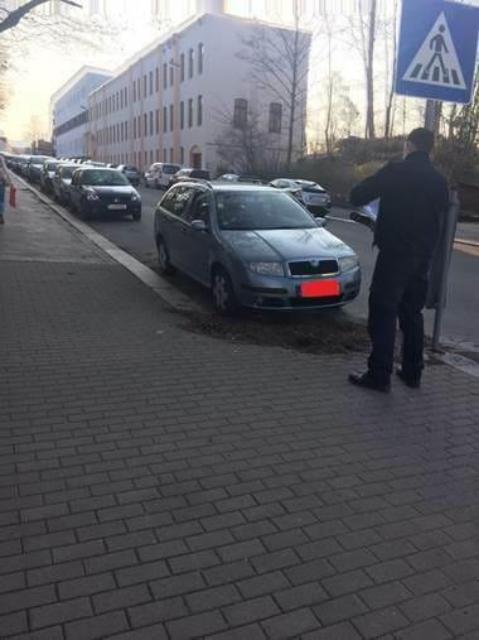crosswalk-sign: (395, 1, 479, 105)
